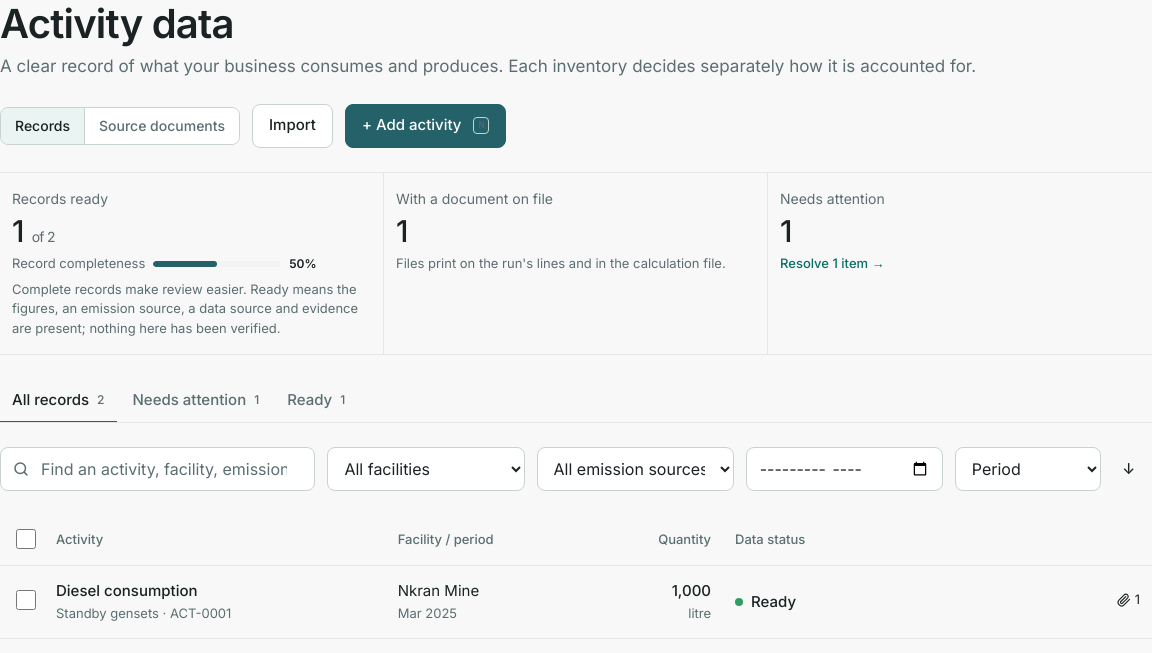
Test: ticking rows offers a bulk removal with one reason for all of them, in one request
Expected: the button "Diesel consumption" is shown, [56,580,198,602]
Click the checkbox named "Select ACT-0001" at (26, 600), box [16,590,36,610]
(page scrolled)
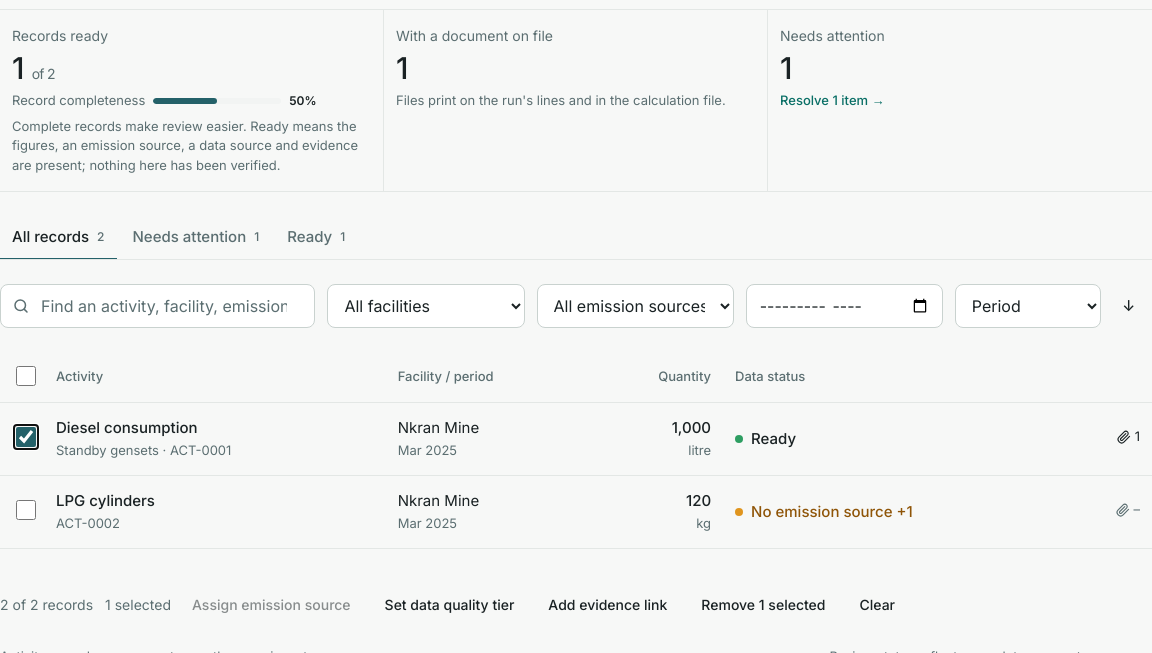
Click the checkbox named "Select ACT-0002" at (26, 510), box [16,500,36,520]
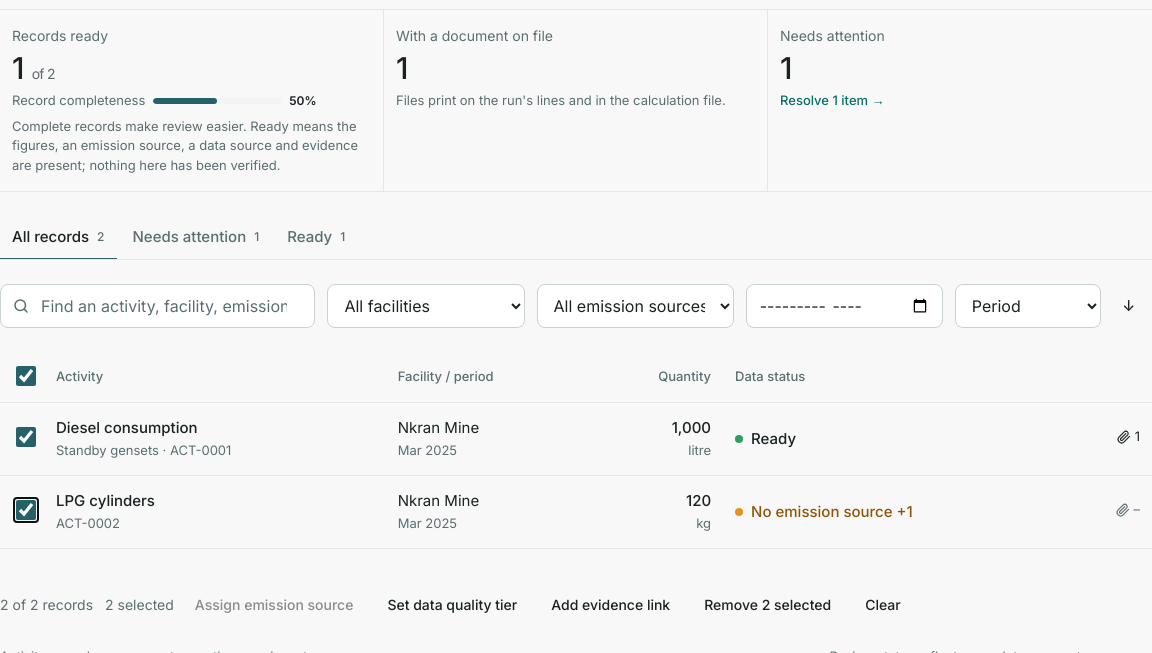
Click the button "Remove 2 selected" at (768, 604), box [691,586,844,622]
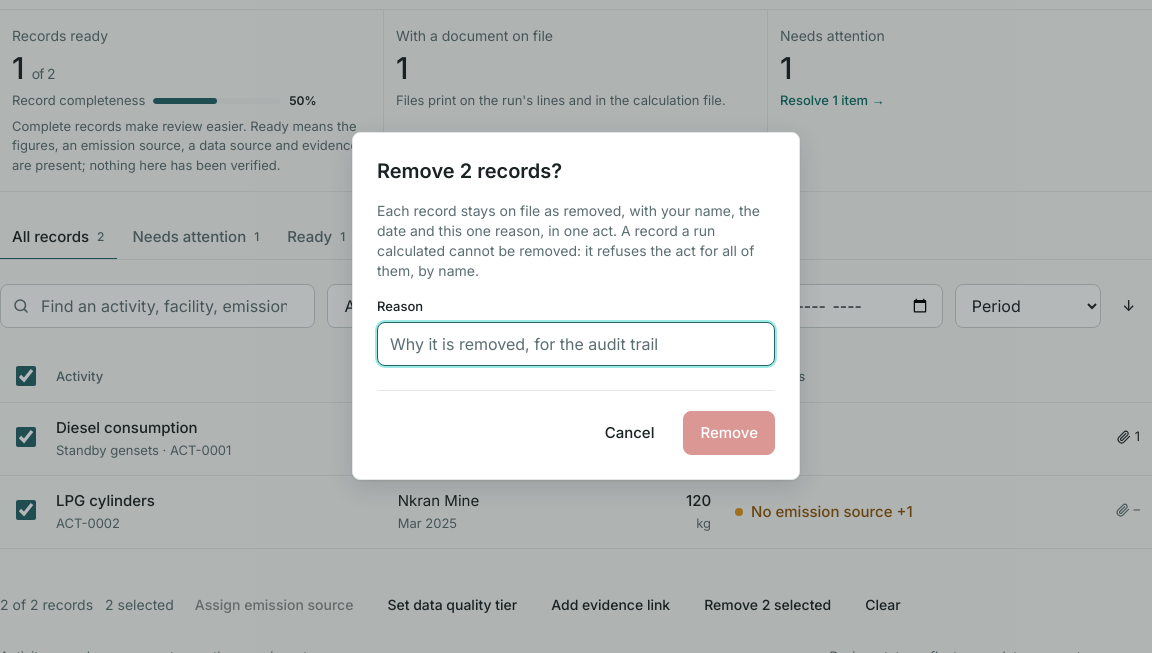
Type "entered twice from the same log" into the field labelled "Reason" at (576, 344), box [377,322,775,366]
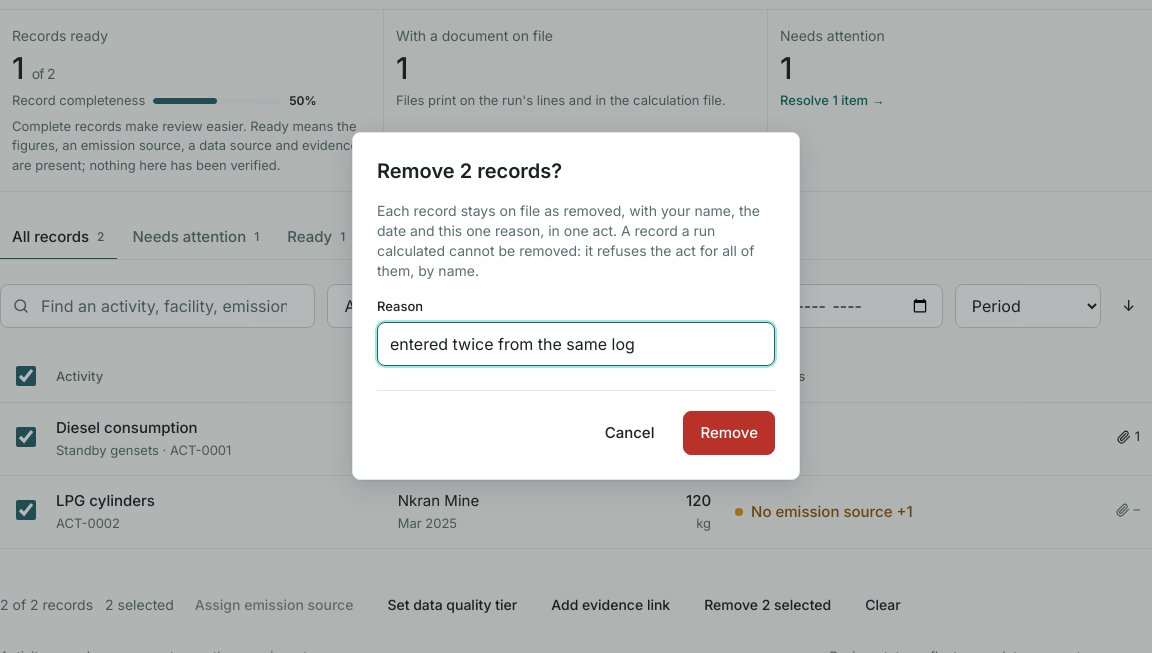
Click the button "Remove" at (729, 433), box [683,411,775,455]
(page scrolled)
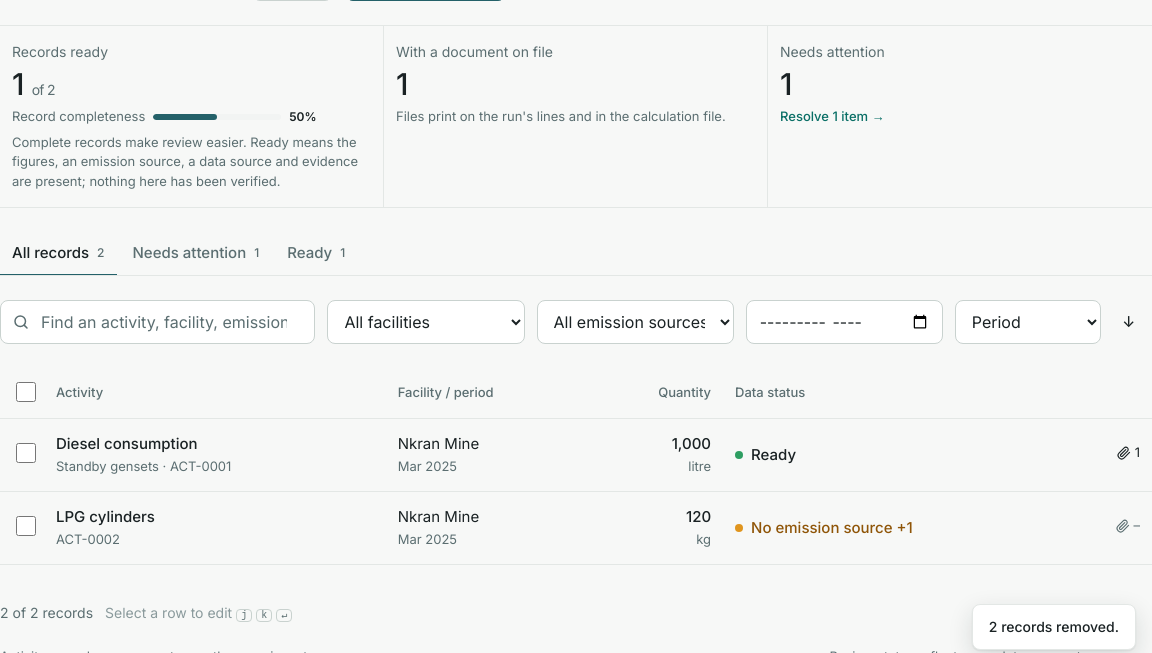
Expected: the text "2 records removed." is shown, [972,604,1136,650]
